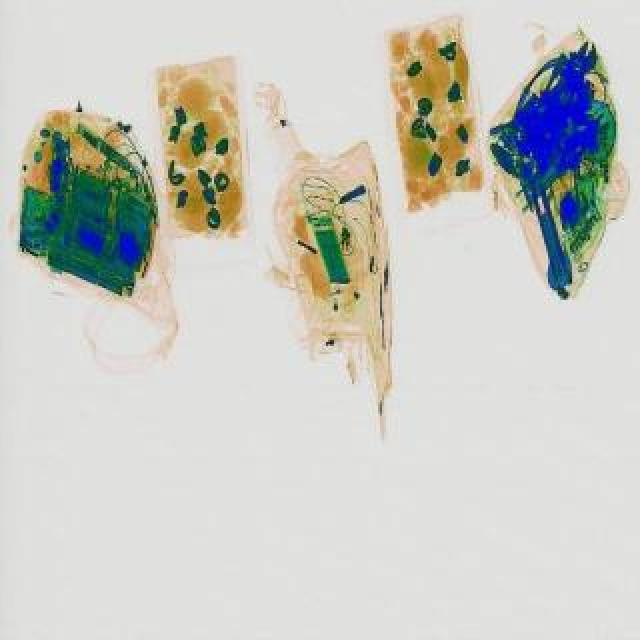scissors: (548, 38, 604, 120)
